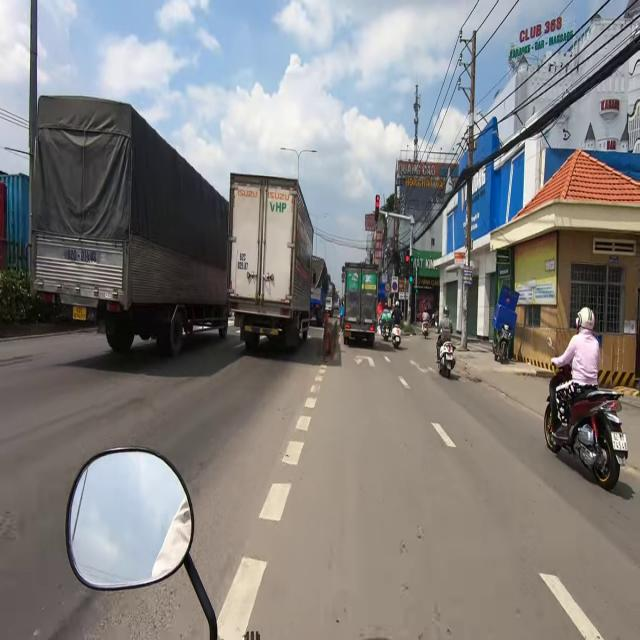bien_trang: (609, 430, 628, 456)
bien_vang: (70, 306, 88, 322)
